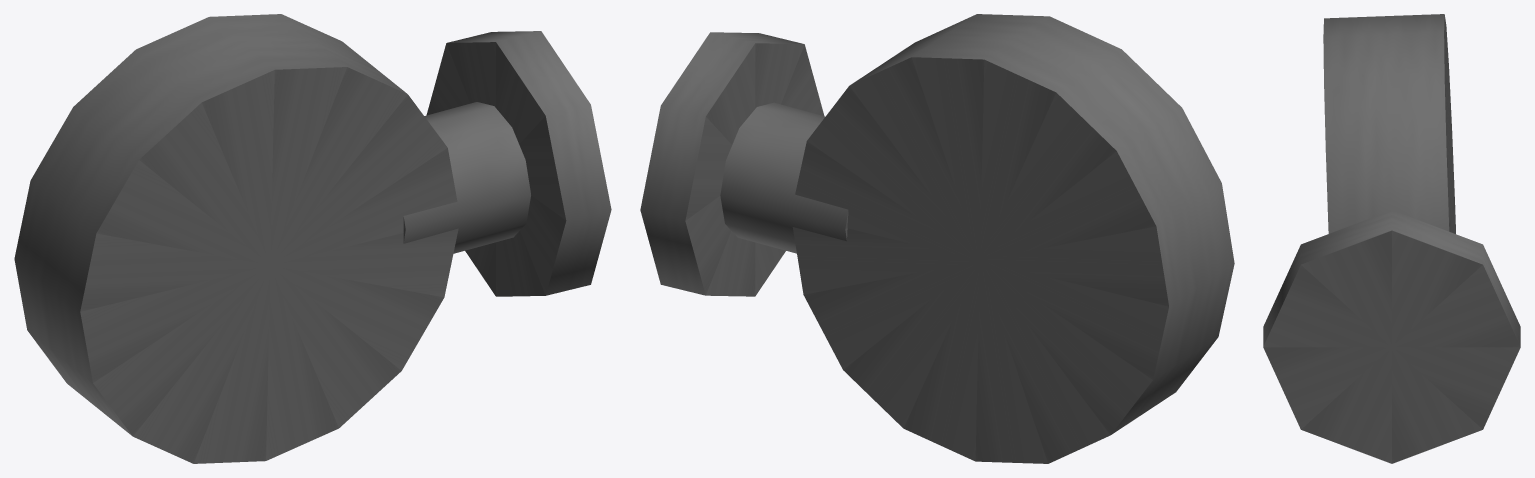
Rendered from mastarmcurve_5x1_c5_east.obj.
3 renders of one model, left to right at view 1: azimuth 30°, elevation 25°; view 2: azimuth 150°, elevation 25°; view 3: azimuth 270°, elevation 25°, orthographic. The views are drawn at different scales.
Visible parts, largest first — view 1: mastarm_5x1_c5_east; view 2: mastarm_5x1_c5_east; view 3: mastarm_5x1_c5_east.
Part boxes in pixels (bbox=[...]): mastarm_5x1_c5_east: bbox=[14, 14, 611, 463]; mastarm_5x1_c5_east: bbox=[640, 14, 1234, 463]; mastarm_5x1_c5_east: bbox=[1263, 14, 1520, 463].
Size of the model in its own units: 0.8119 by 0.632 by 0.4.
